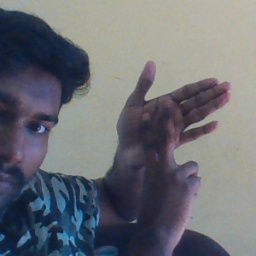N: (109, 59, 232, 208)
